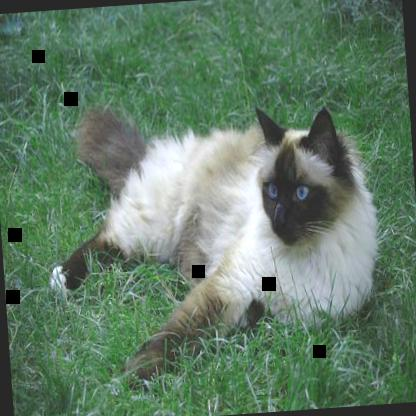cat: (41, 87, 384, 396)
